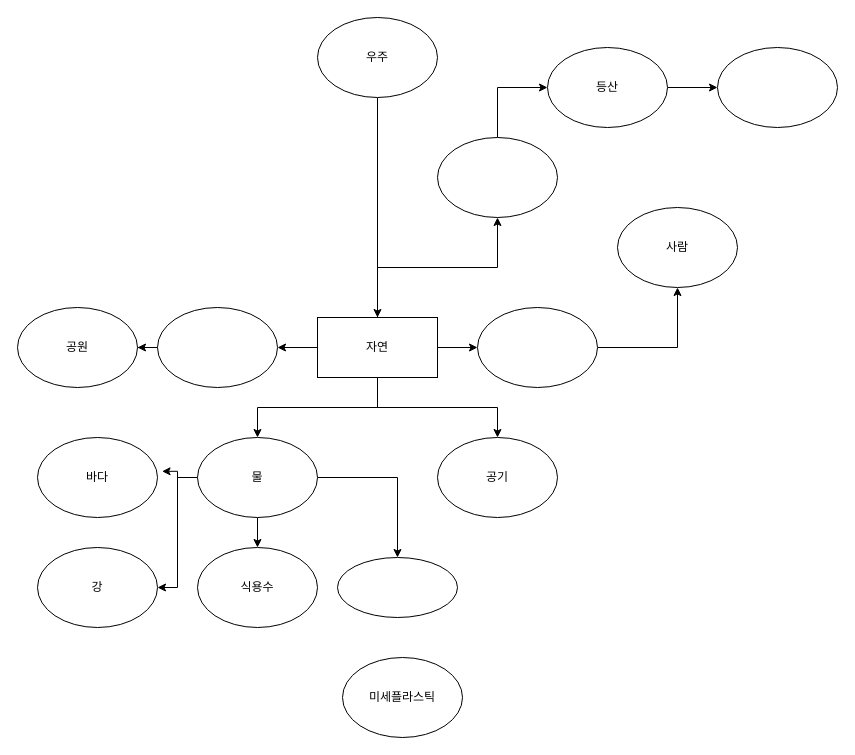
Some shapes in this 855 by 755 pixel diagram are drawn without their labels. The centre of each missing label's shape, as x and y in pixels:
경관: the point at 497,177
동물: the point at 537,347
등산로: the point at 777,87
수질오염: the point at 397,587
식물: the point at 217,347
